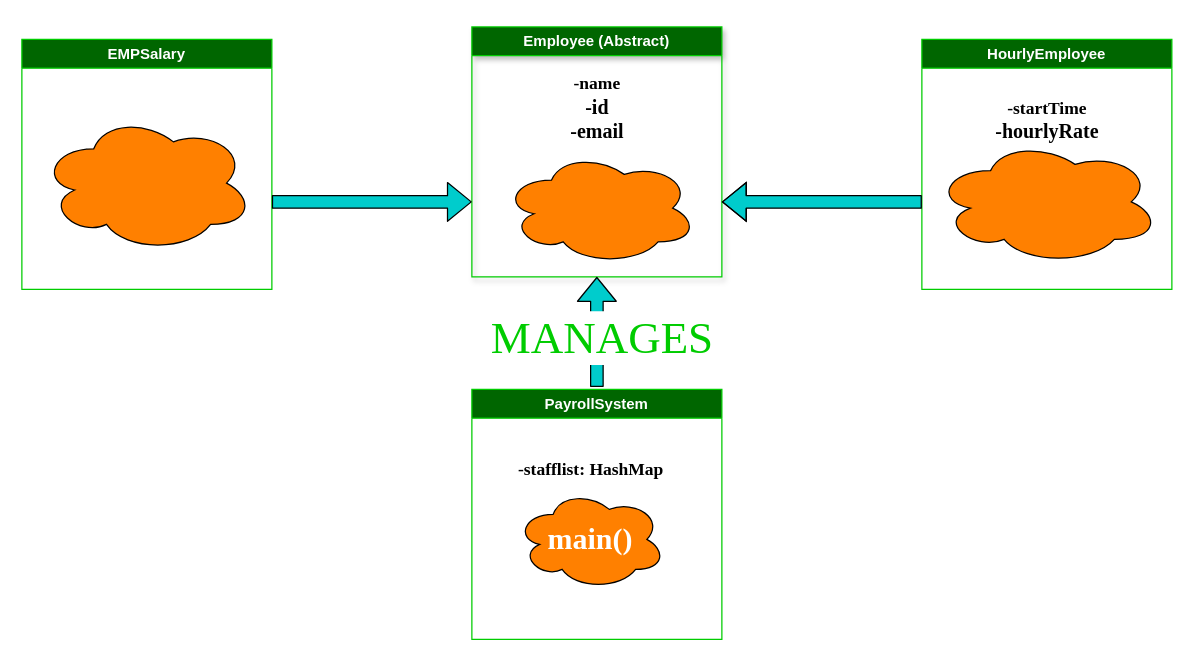
Some shapes in this 1194 by 661 pixel diagram are drawn without their labels. The shapes that lost their labels are listed below. From the top down, each one's centre as x and y in pixels, then its label:
At point (146, 182): "calculatePay()".
At point (1046, 201): "calculatePay() clockIn()".
At point (599, 207): "getName() calculatePay()".
